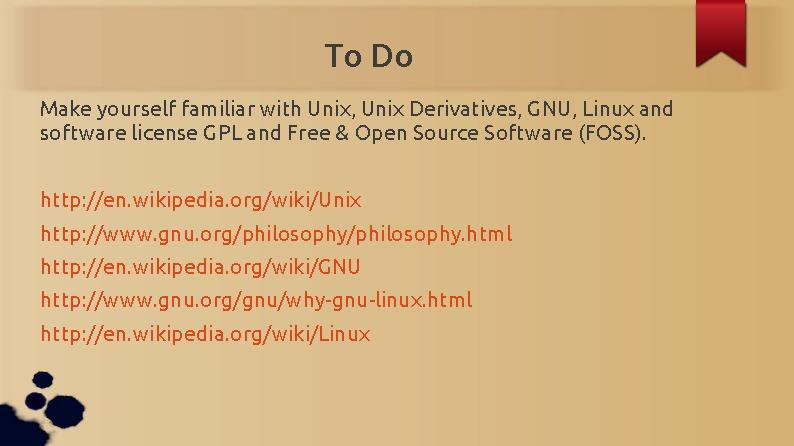paragraph: (15, 85, 718, 375)
title: (320, 30, 429, 85)
